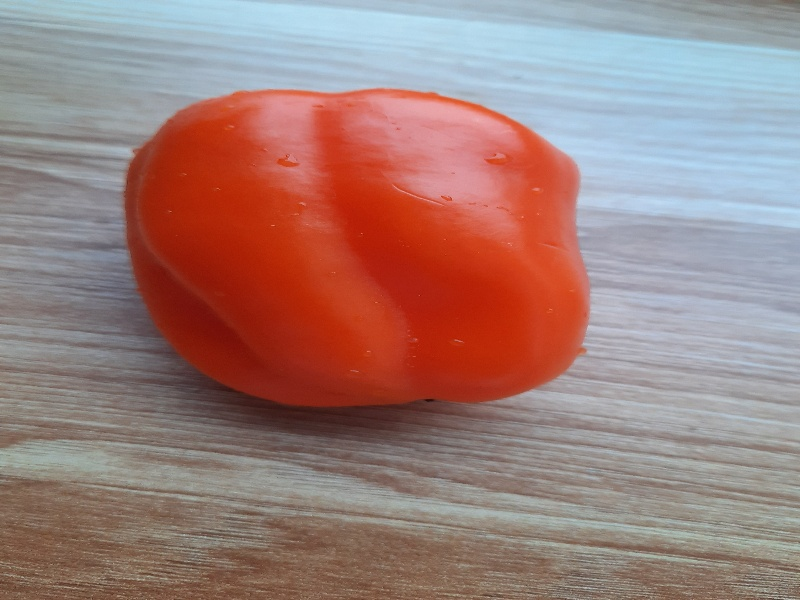vege: (123, 83, 597, 419)
